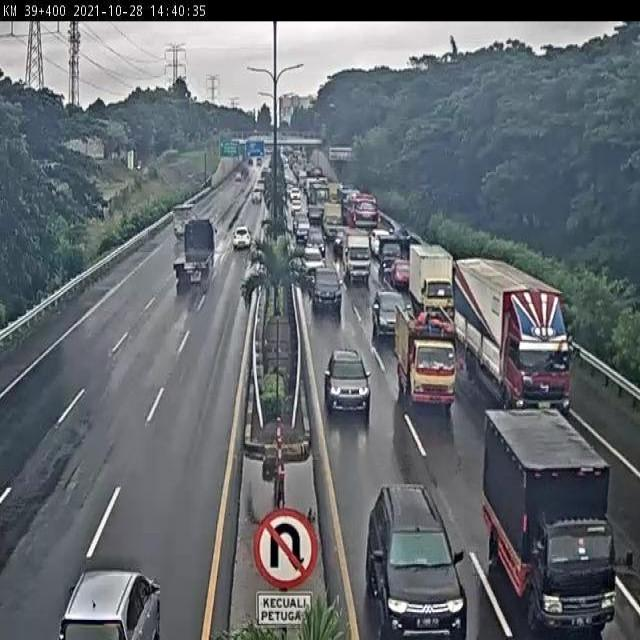big truck: (172, 219, 219, 280)
car: (366, 480, 468, 639), (323, 347, 370, 416), (310, 264, 344, 312), (373, 286, 406, 334), (299, 247, 326, 274), (230, 224, 255, 251)
small truck: (169, 196, 197, 239)
truck-l-: (451, 257, 579, 413)
truck-m-: (483, 414, 618, 640), (396, 304, 458, 408), (408, 243, 452, 312)
truck-s-: (343, 226, 372, 282)
